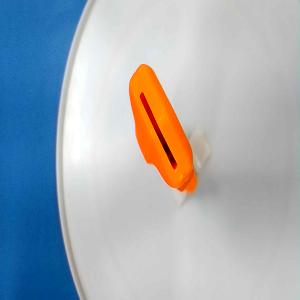estilete: (128, 61, 198, 196)
